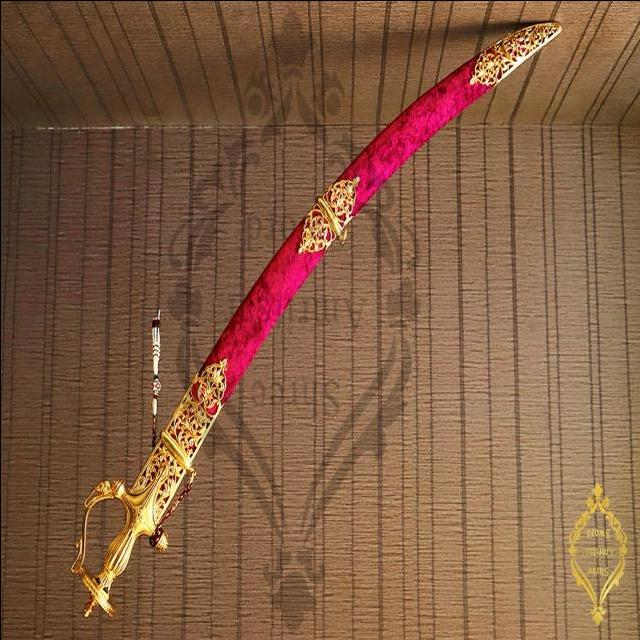cutlass: (63, 9, 570, 632)
